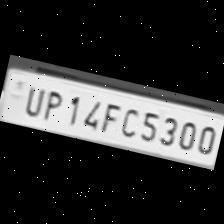0: (193, 120, 220, 156), (174, 114, 200, 150)
1: (60, 90, 85, 127)
3: (155, 110, 181, 146)
4: (77, 92, 106, 131)
5: (136, 104, 164, 142)
C: (116, 102, 142, 138)
F: (96, 97, 122, 134)
P: (38, 85, 66, 122)
U: (18, 80, 46, 118)
